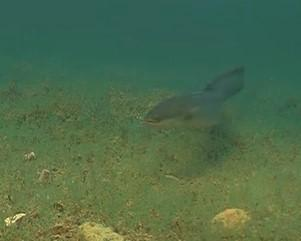Freshwater Eel: (140, 62, 251, 140)
